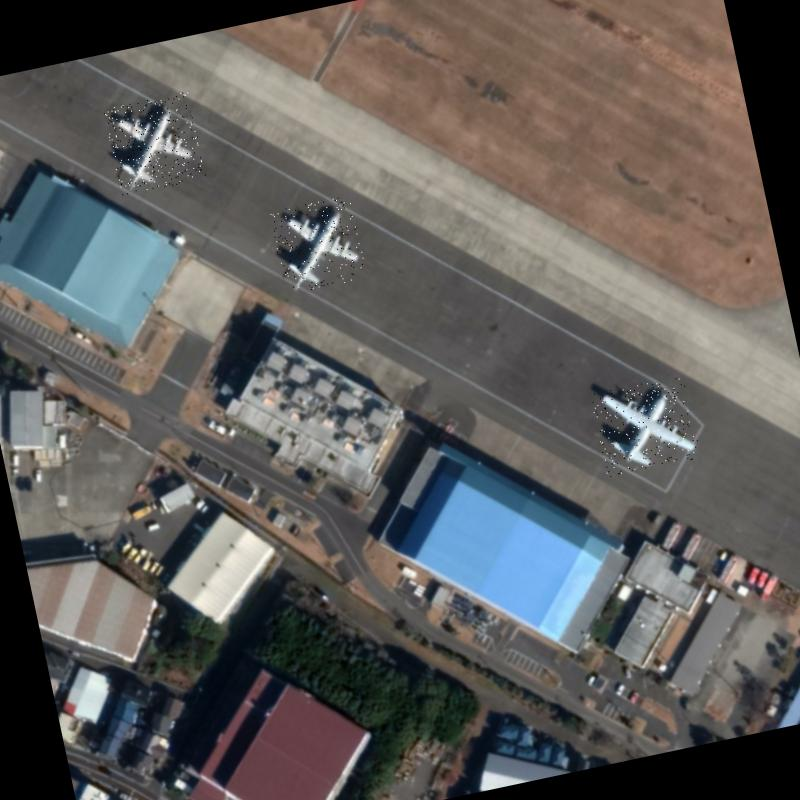A2: (590, 374, 702, 477)
A9: (103, 91, 207, 196), (269, 195, 368, 295)
